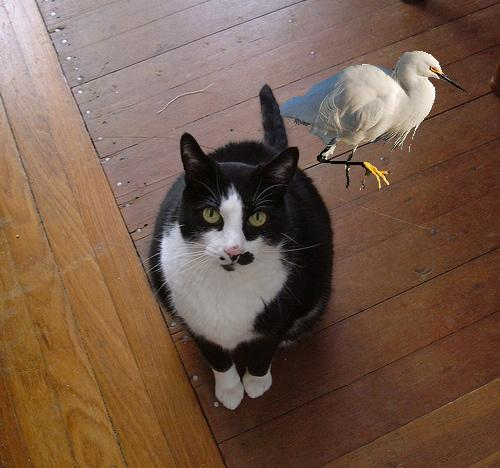tampered: (280, 52, 470, 190)
